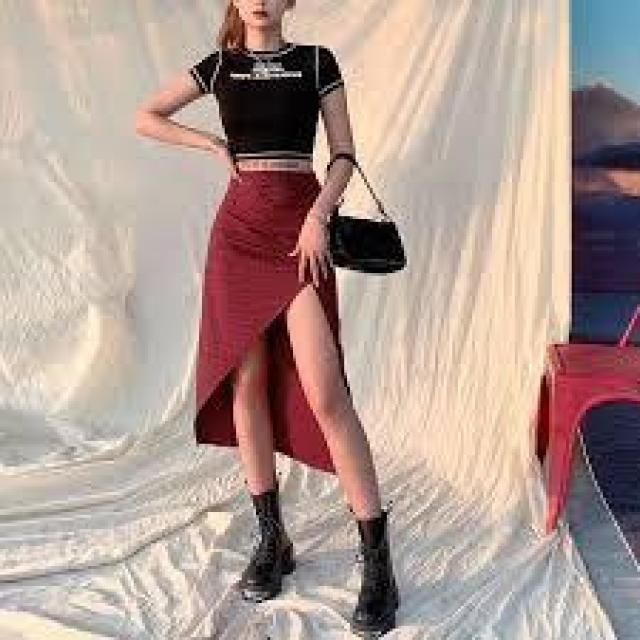Tshirt: (184, 37, 348, 165)
skirt: (195, 174, 363, 475)
